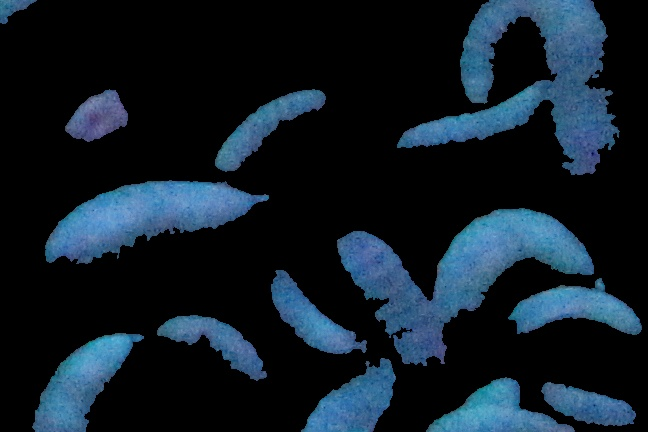larvae: (458, 1, 622, 179), (41, 178, 269, 271), (327, 223, 452, 368), (434, 209, 594, 312), (145, 305, 282, 396), (384, 84, 550, 157), (24, 328, 138, 432), (261, 250, 368, 357), (211, 86, 326, 172), (504, 283, 648, 337), (302, 364, 402, 432), (539, 375, 645, 432)
